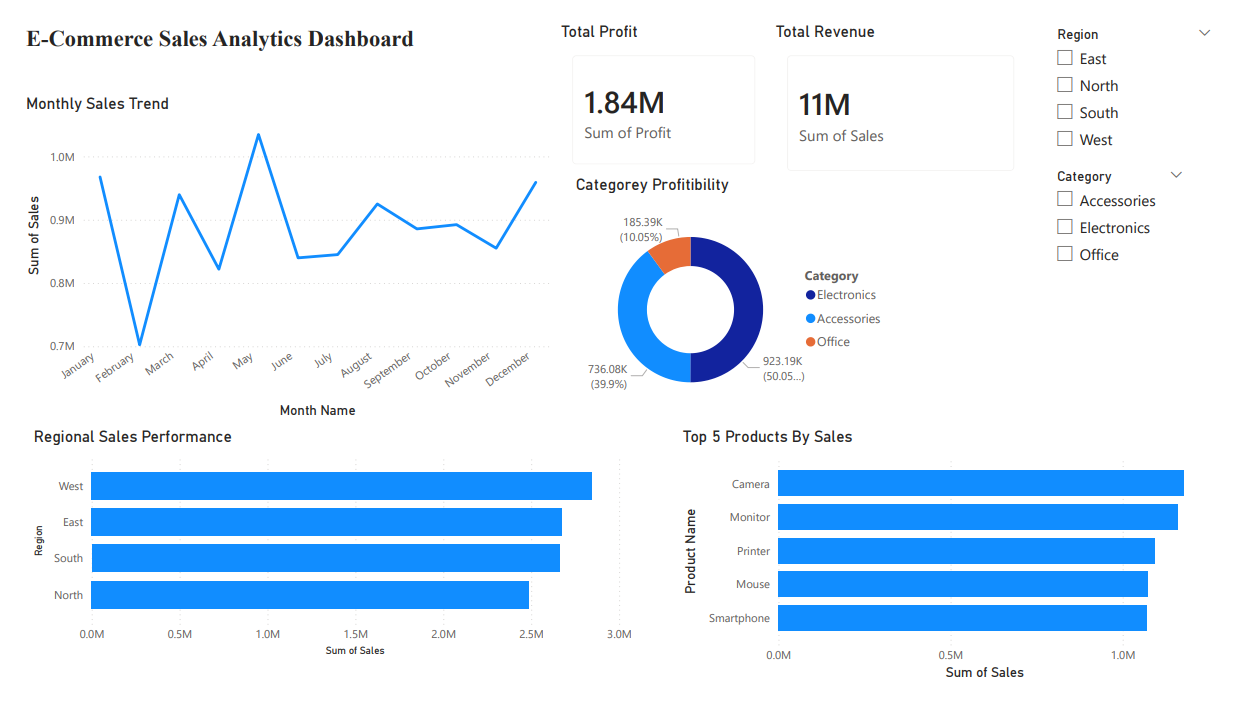

What the dashboard file says about the page in this screenshot:
{"tool":"powerbi","page":{"name":"Page 1","canvas":[1280,720],"ordinal":0},"visuals":[{"type":"cardVisual","title":"Total Revenue","fields":{"Data":["Sum(cleaned_ecommerce_sales.Sales)"]},"box":[799.1,0,276.1,177],"z":0},{"type":"cardVisual","title":"Total Profit","fields":{"Data":["Sum(cleaned_ecommerce_sales.Profit)"]},"box":[570.3,0,228.8,170.2],"z":1000},{"type":"lineChart","title":"Monthly Sales Trend","fields":{"Category":["cleaned_ecommerce_sales.Month Name"],"Y":["Sum(cleaned_ecommerce_sales.Sales)"]},"box":[0,77,570,351],"z":2000},{"type":"clusteredBarChart","title":"Regional Sales Performance","fields":{"Category":["cleaned_ecommerce_sales.Region"],"Y":["Sum(cleaned_ecommerce_sales.Sales)"]},"box":[7.9,431.7,648.1,249.1],"z":3000},{"type":"donutChart","title":"Categorey Profitibility","fields":{"Category":["cleaned_ecommerce_sales.Category"],"Y":["Sum(cleaned_ecommerce_sales.Profit)"]},"box":[586.1,163.4,343.8,268.3],"z":4000},{"type":"clusteredBarChart","title":"Top 5 Products By Sales","fields":{"Category":["cleaned_ecommerce_sales.Product Name"],"Y":["Sum(cleaned_ecommerce_sales.Sales)"]},"box":[699.9,431.7,565.8,275],"z":5000},{"type":"slicer","fields":{"Values":["cleaned_ecommerce_sales.Region"]},"box":[1091.1,1.1,189.4,151],"z":6000},{"type":"slicer","fields":{"Values":["cleaned_ecommerce_sales.Category"]},"box":[1091.1,152.2,158.9,151],"z":6001},{"type":"textbox","box":[0,0,427.2,76.6],"z":6002}]}

Visuals, with their boxes in screenshot pixels (x1, y1, x2, y2), scaled from the page's 1280x720 canvas onto the 1245x717 screenshot:
"Total Revenue" cardVisual: x1=777, y1=0, x2=1046, y2=176
"Total Profit" cardVisual: x1=555, y1=0, x2=777, y2=169
"Monthly Sales Trend" lineChart: x1=0, y1=77, x2=554, y2=426
"Regional Sales Performance" clusteredBarChart: x1=8, y1=430, x2=638, y2=678
"Categorey Profitibility" donutChart: x1=570, y1=163, x2=904, y2=430
"Top 5 Products By Sales" clusteredBarChart: x1=681, y1=430, x2=1231, y2=704
slicer - cleaned_ecommerce_sales.Region: x1=1061, y1=1, x2=1244, y2=151
slicer - cleaned_ecommerce_sales.Category: x1=1061, y1=152, x2=1216, y2=302
textbox: x1=0, y1=0, x2=416, y2=76
